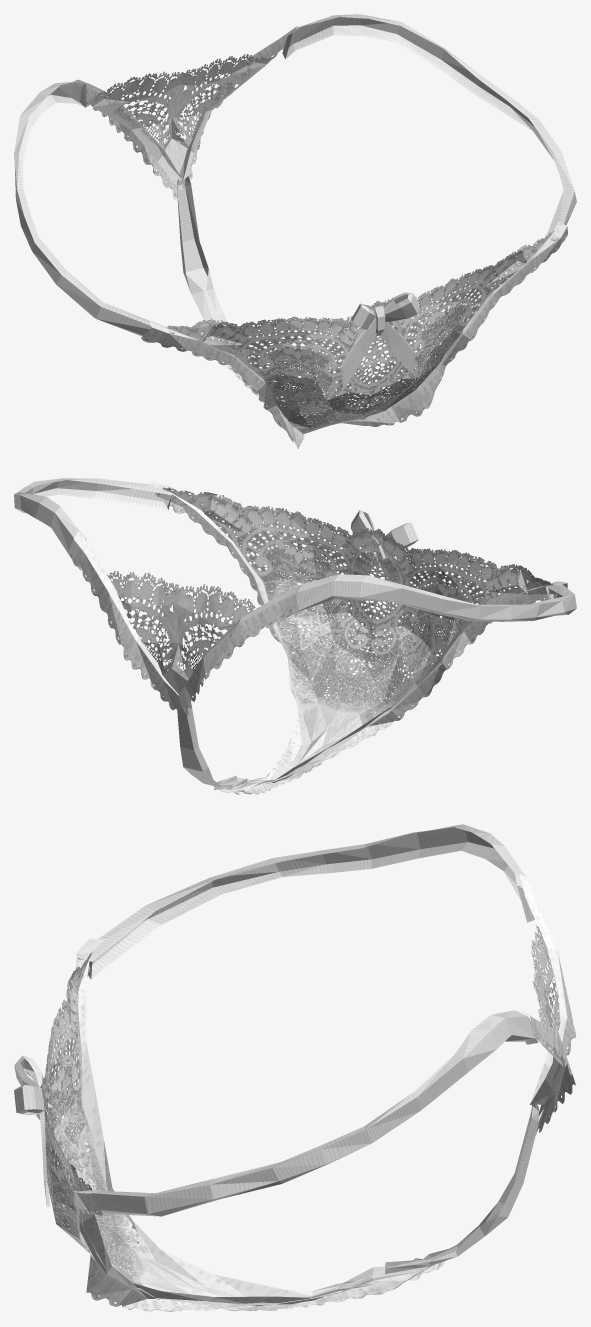
Rendered from mhw_punkduck_french_lingerie_thong.glb.
The picture shows the model from 3 angles, top to bottom: view 1: azimuth 30°, elevation 25°; view 2: azimuth 150°, elevation 25°; view 3: azimuth 270°, elevation 25°; orthographic projection. The views are drawn at different scales.
Parts seen in each view (by area): view 1: mhw_punkduck_french_lingerie_thong; view 2: mhw_punkduck_french_lingerie_thong; view 3: mhw_punkduck_french_lingerie_thong.
Boxes of the visible parts, x1=… form: mhw_punkduck_french_lingerie_thong: x1=14, y1=14, x2=576, y2=448; mhw_punkduck_french_lingerie_thong: x1=14, y1=478, x2=576, y2=795; mhw_punkduck_french_lingerie_thong: x1=14, y1=824, x2=576, y2=1312.
Bounding box in the file's own units: 0.3266 × 0.1836 × 0.2491.
1 material, 1 textured.
